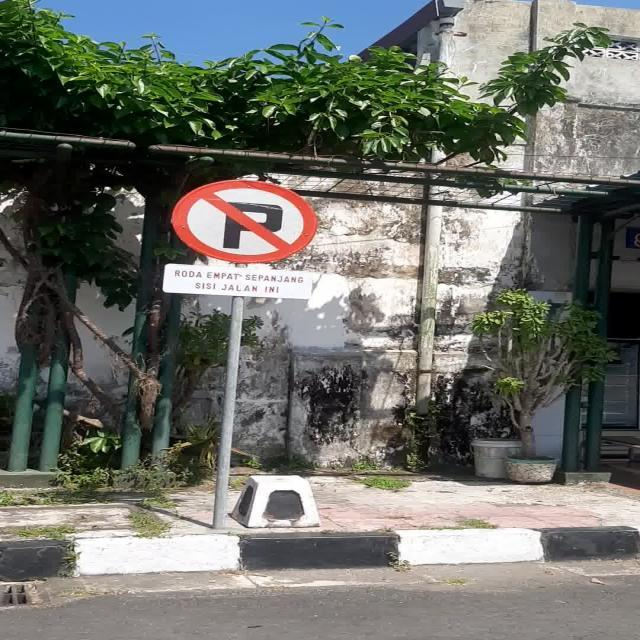Dilarang Parkir: (172, 179, 318, 263)
